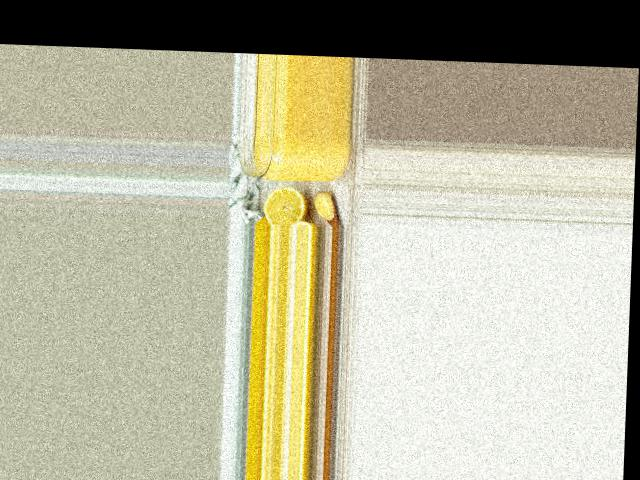lemon: (262, 186, 307, 224)
